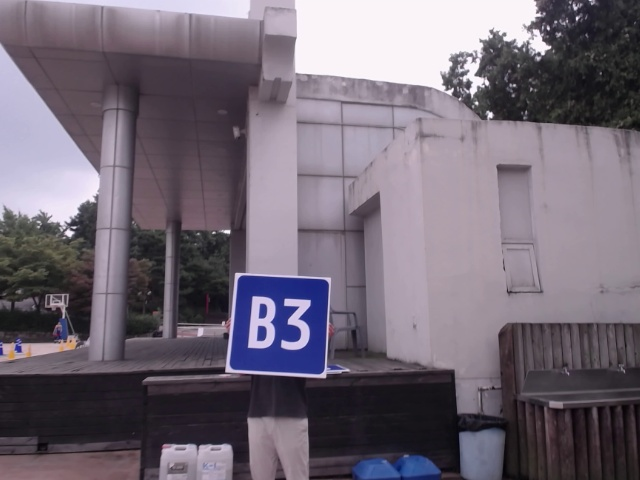delivery_b3: (225, 273, 330, 380)
